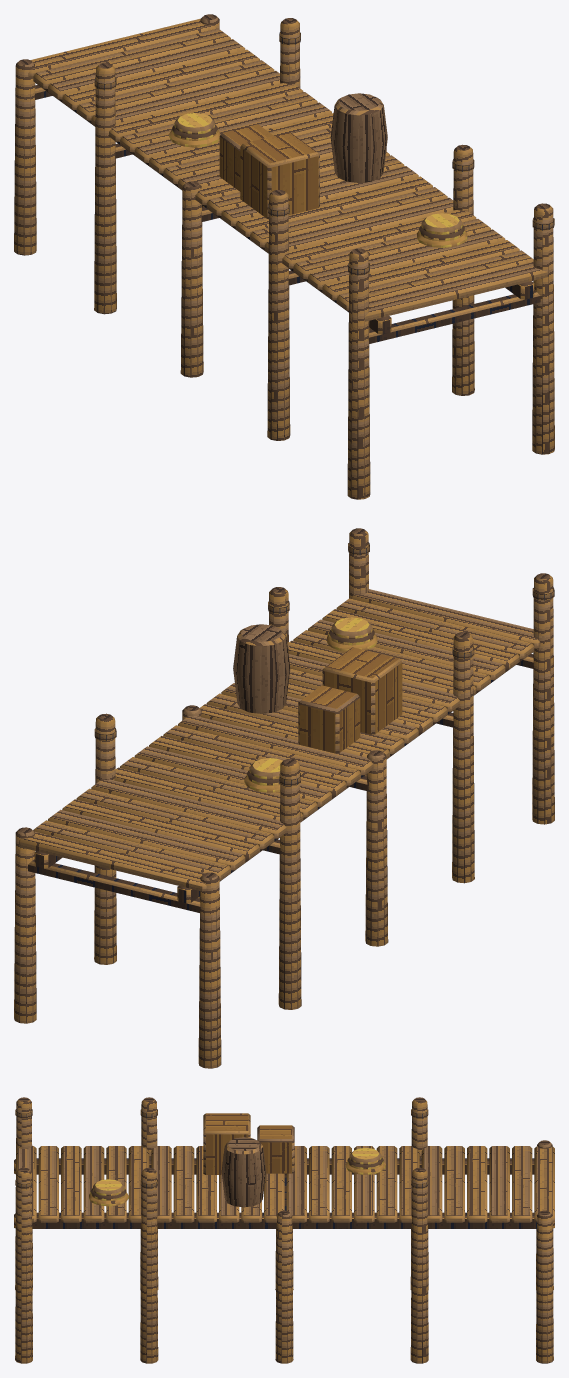
The model's file is med_pier_2.glb.
The picture shows the model from 3 angles, top to bottom: view 1: azimuth 30°, elevation 25°; view 2: azimuth 150°, elevation 25°; view 3: azimuth 270°, elevation 25°; orthographic projection. The views are drawn at different scales.
Parts seen in each view (by area): view 1: med_pier_3; view 2: med_pier_3; view 3: med_pier_3.
Part boxes in pixels (x1=…): med_pier_3: x1=14, y1=14, x2=554, y2=499; med_pier_3: x1=14, y1=528, x2=554, y2=1068; med_pier_3: x1=14, y1=1097, x2=554, y2=1363.
Bounding box in the file's own units: 2.72 × 3.25 × 8.
Materials: 7 (7 with a texture image).
